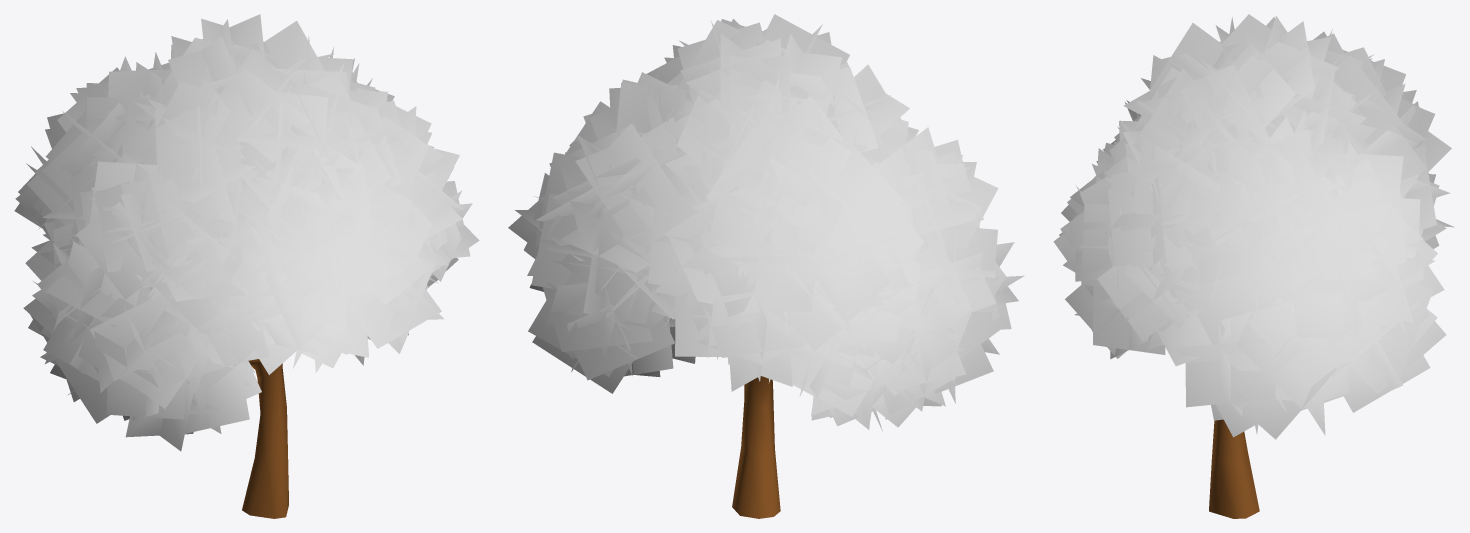
Rendered from SM_OakTree 1.fbx.
3 views of the same model, side by side, from view 1: azimuth 30°, elevation 25°; view 2: azimuth 150°, elevation 25°; view 3: azimuth 270°, elevation 25° (orthographic). The views are drawn at different scales.
Visible parts, largest first — view 1: Oak_Leaves, Oak_Tree; view 2: Oak_Leaves, Oak_Tree; view 3: Oak_Leaves, Oak_Tree.
Part boxes in pixels (box(x1,y1,x2,y2)): Oak_Leaves: box(14, 14, 479, 451); Oak_Tree: box(242, 359, 288, 518); Oak_Leaves: box(508, 14, 1024, 431); Oak_Tree: box(732, 376, 780, 518); Oak_Leaves: box(1053, 14, 1454, 439); Oak_Tree: box(1209, 419, 1259, 518).
Bounding box in the file's own units: 272 × 329 × 356.
